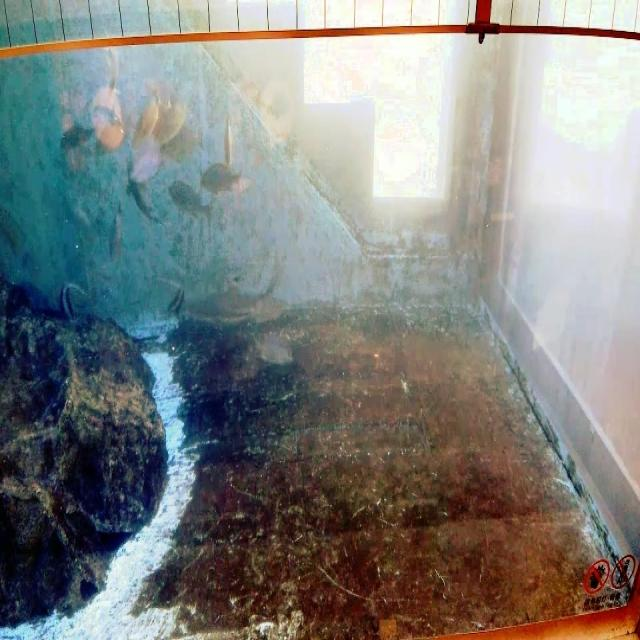angelfish: (46, 271, 87, 329), (158, 273, 186, 326)
gold snapper: (168, 174, 216, 232), (196, 152, 246, 201), (128, 89, 162, 145)
shark: (185, 270, 294, 340)
